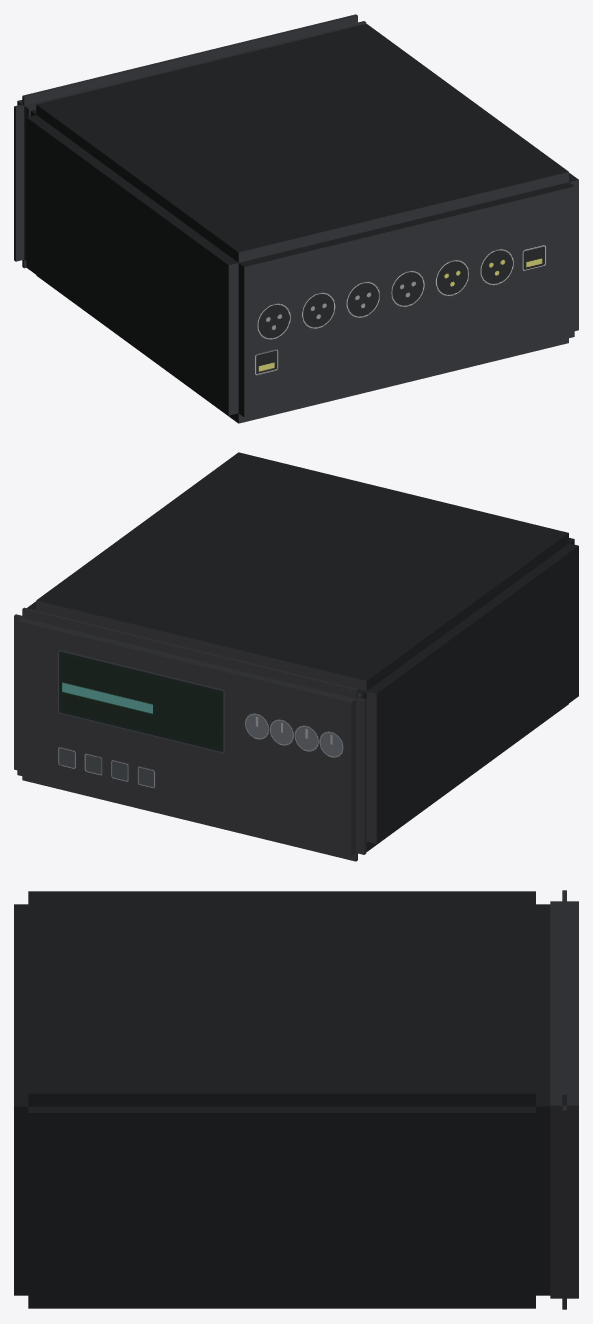
The model's file is aeta-scoopteam.glb.
3 renders of one model, top to bottom at view 1: azimuth 30°, elevation 25°; view 2: azimuth 150°, elevation 25°; view 3: azimuth 270°, elevation 25°, orthographic. The views are drawn at different scales.
Visible parts, largest first — view 1: aeta-scoopteam-body; view 2: aeta-scoopteam-body; view 3: aeta-scoopteam-body.
Part boxes in pixels (<box>): aeta-scoopteam-body: <box>14,14,578,423</box>; aeta-scoopteam-body: <box>14,452,578,861</box>; aeta-scoopteam-body: <box>14,890,578,1309</box>.
Bounding box in the file's own units: 0.212 × 0.102 × 0.236.
Materials: 1 (1 with a texture image).
